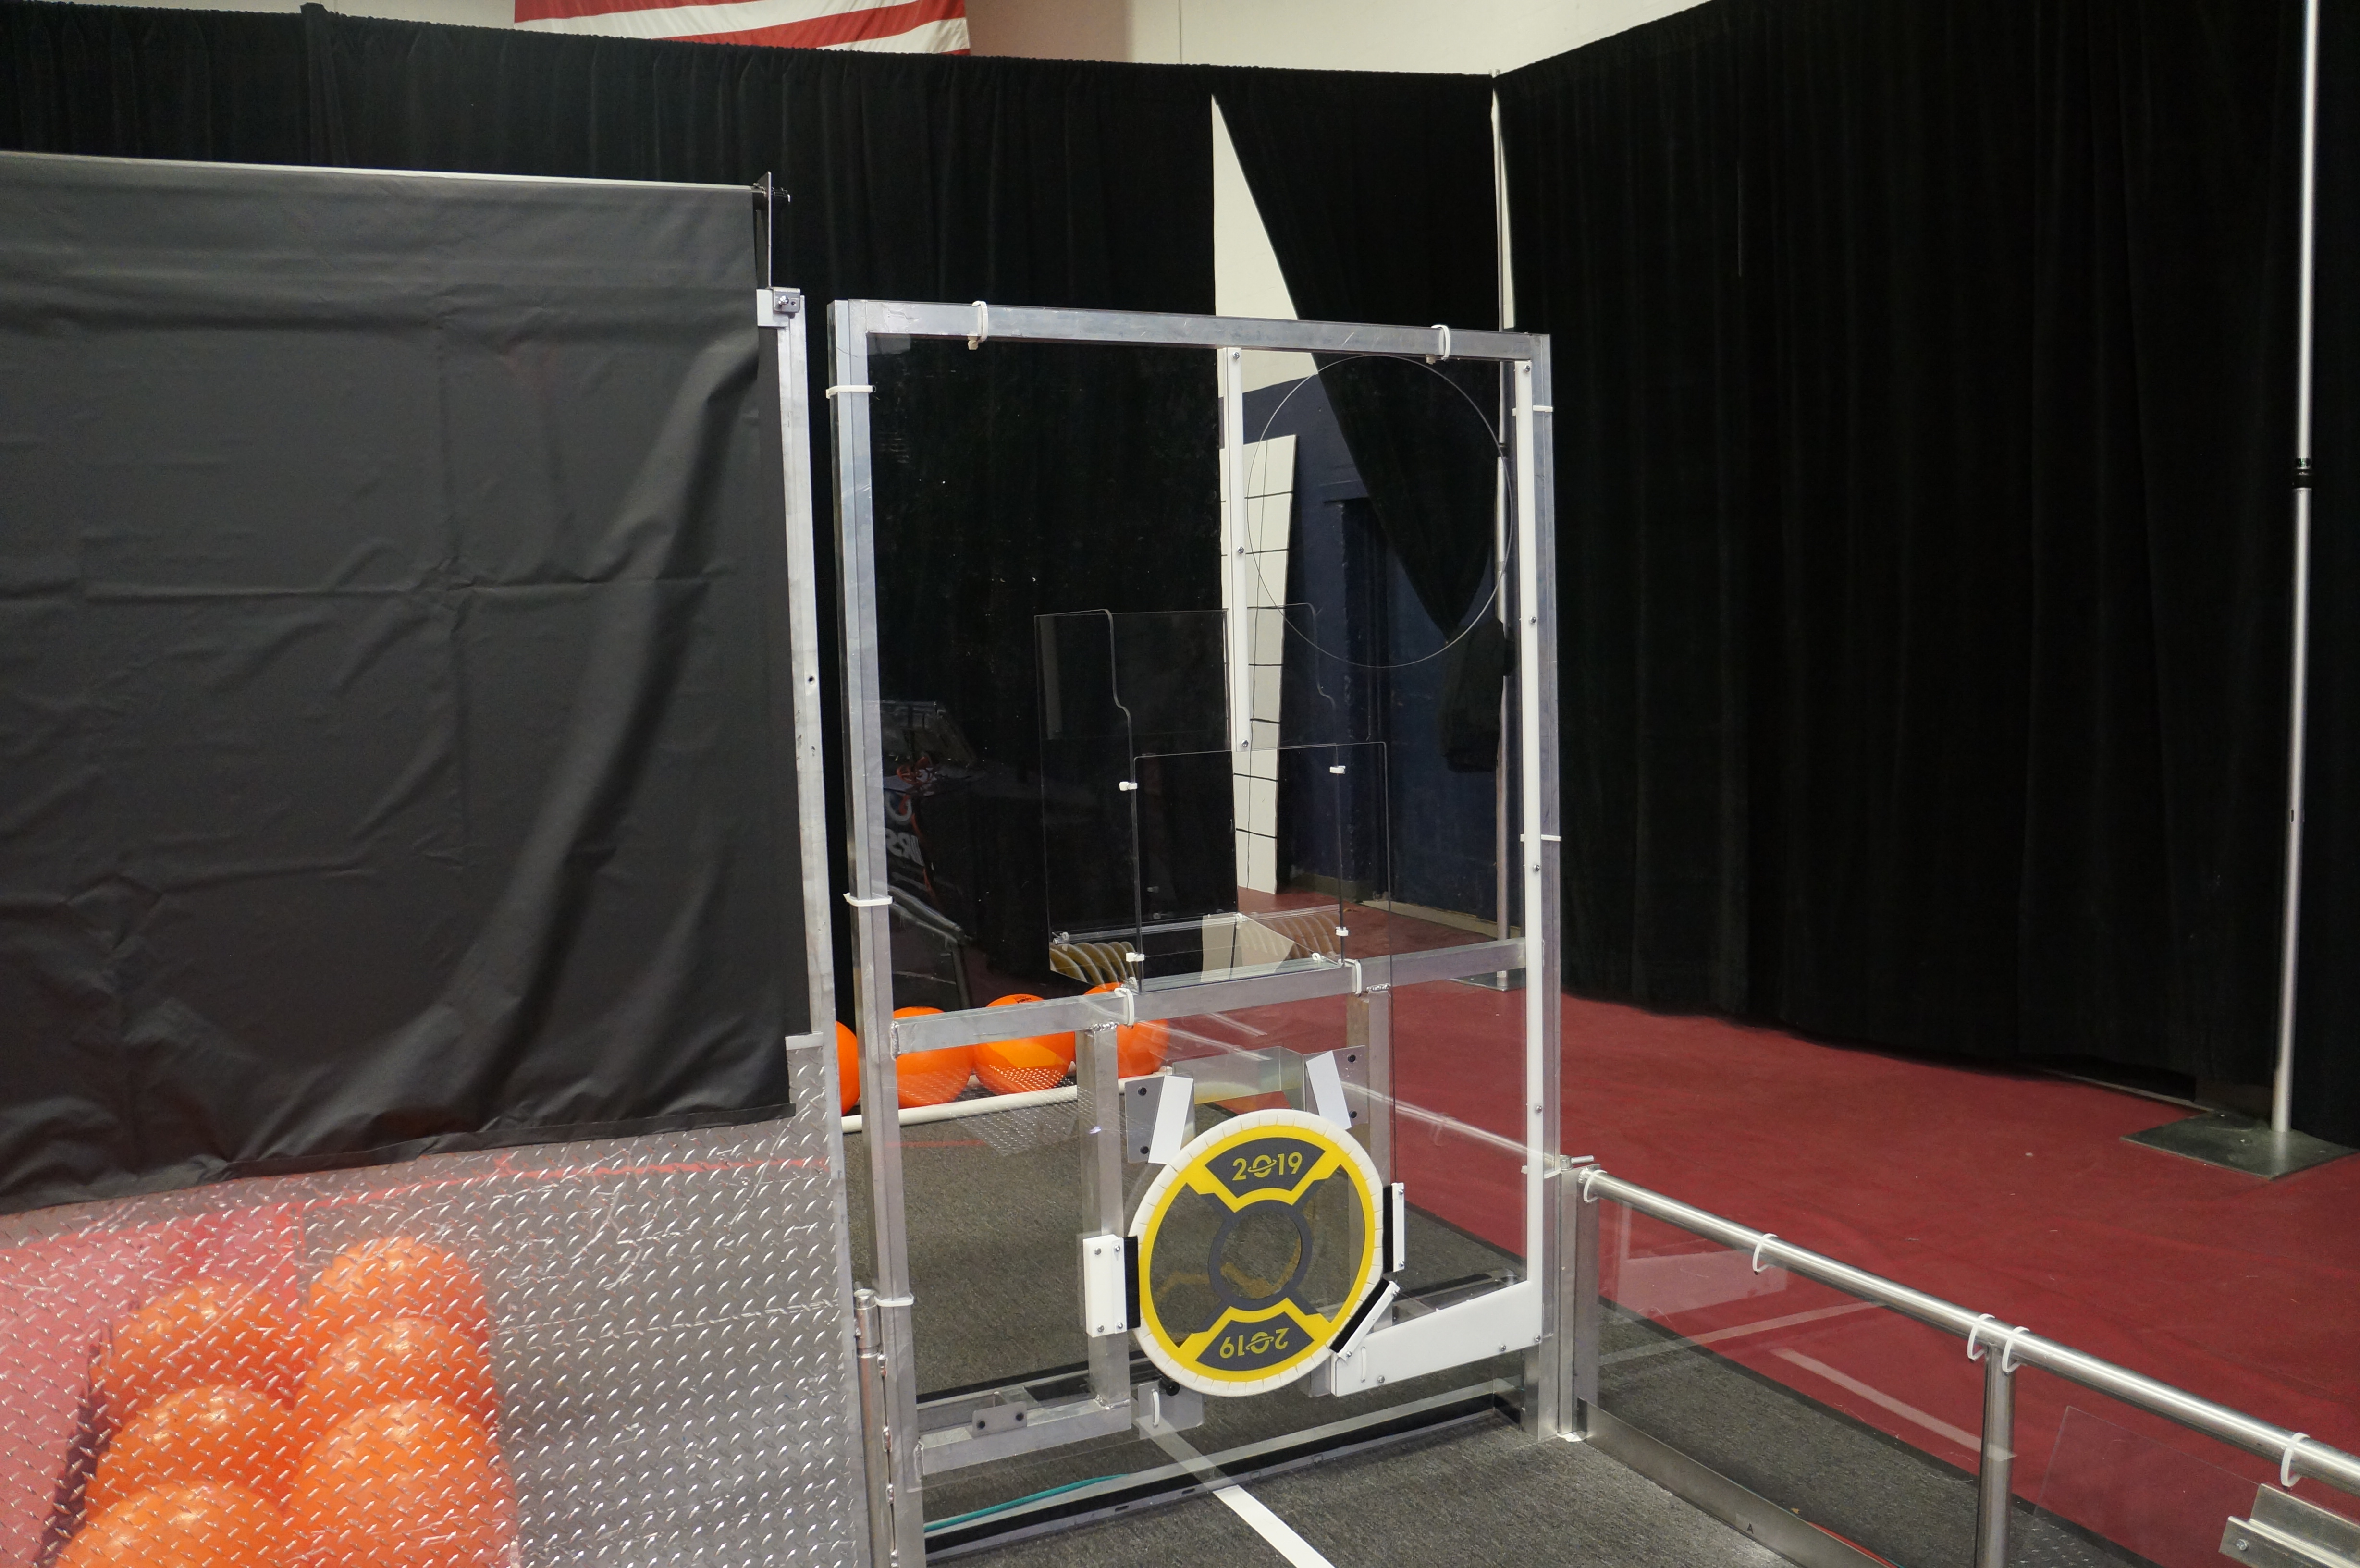Ball: (969, 990, 1078, 1092), (876, 1004, 974, 1111), (1079, 980, 1170, 1081), (834, 1020, 864, 1115)
Hatch: (1125, 1106, 1396, 1400)
Tape: (1148, 1073, 1198, 1169), (1305, 1046, 1356, 1136)
